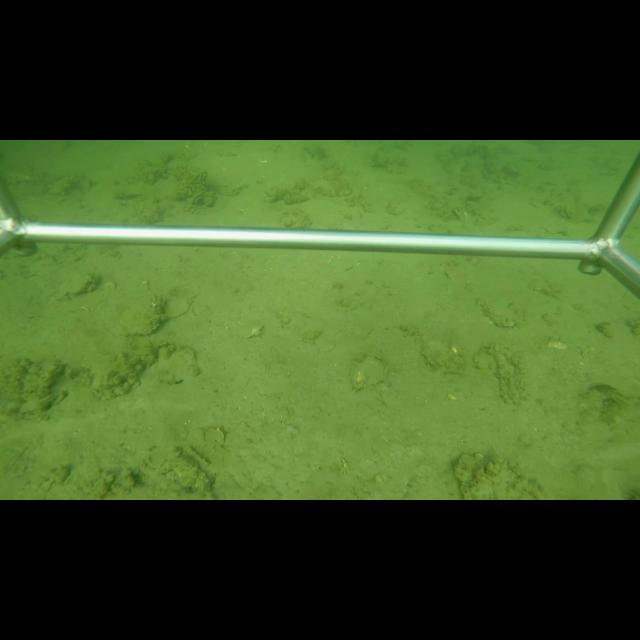Oyster-Closed: (119, 294, 165, 339), (60, 273, 95, 298)
